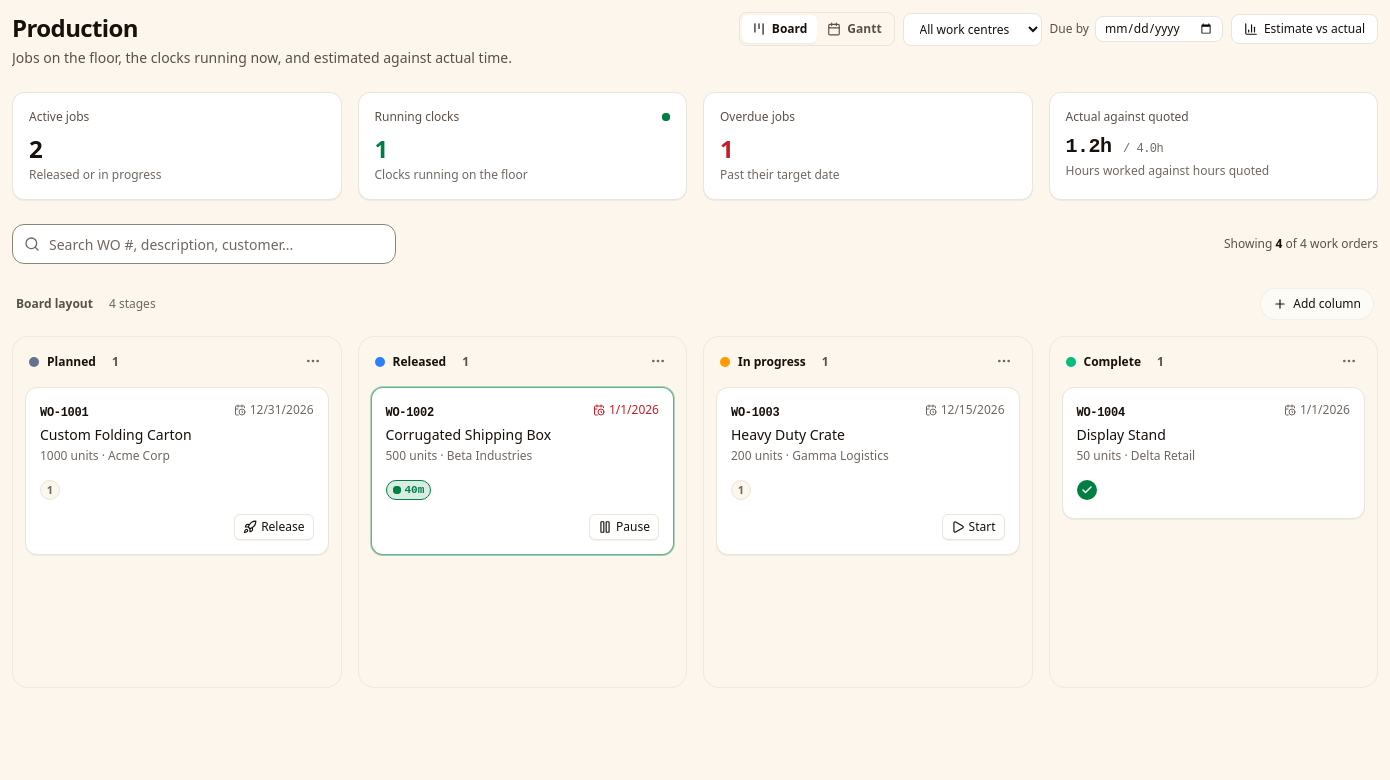
ProductionBoard › Search Filter Input › filters work orders by WO number
Expected: the text "WO-1001" is shown, [40,405,88,421]
Expected: the text "WO-1002" is shown, [386,405,434,421]
Type "WO-1001" into the field named "Search work orders" at [204, 244], box [12,224,396,264]
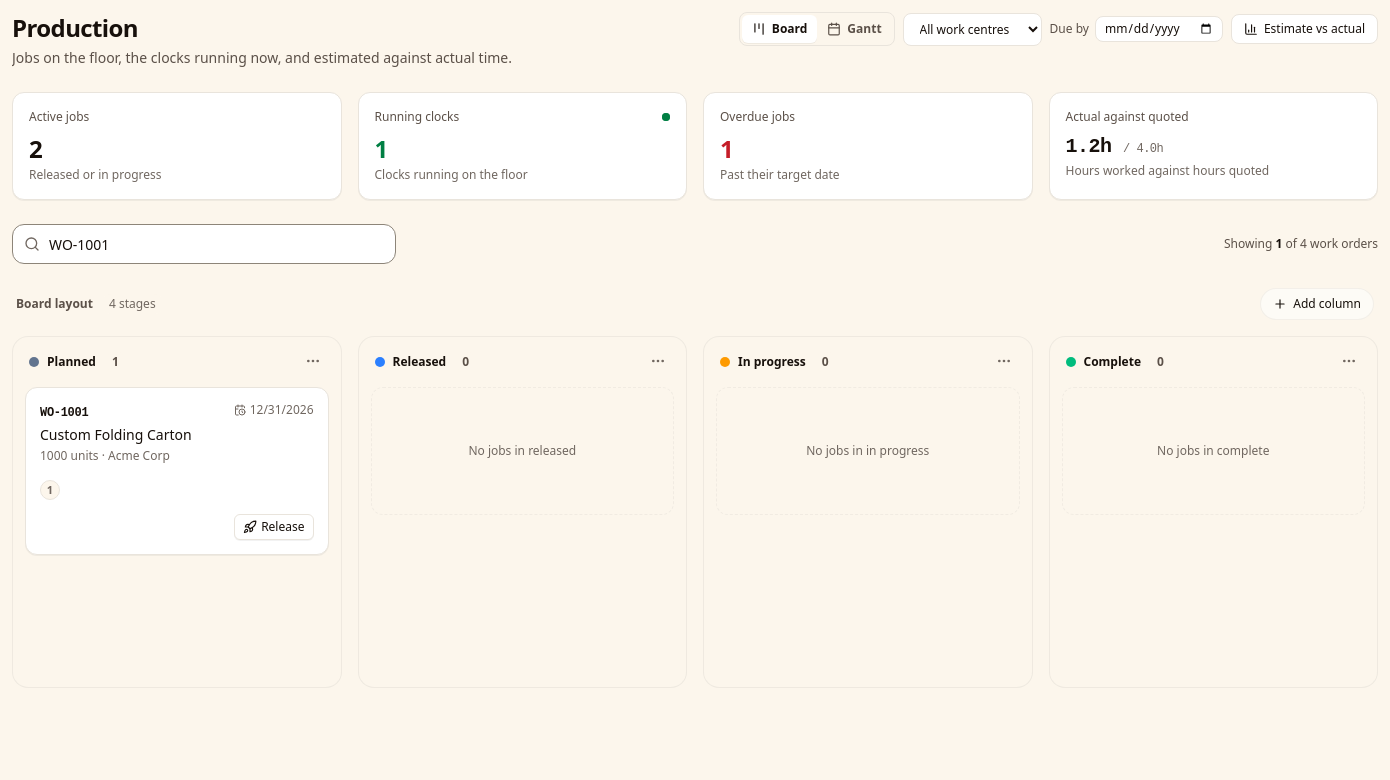
Expected: the button "WO-1002" is gone
Expected: the button "WO-1003" is gone
Expected: the button "WO-1004" is gone
